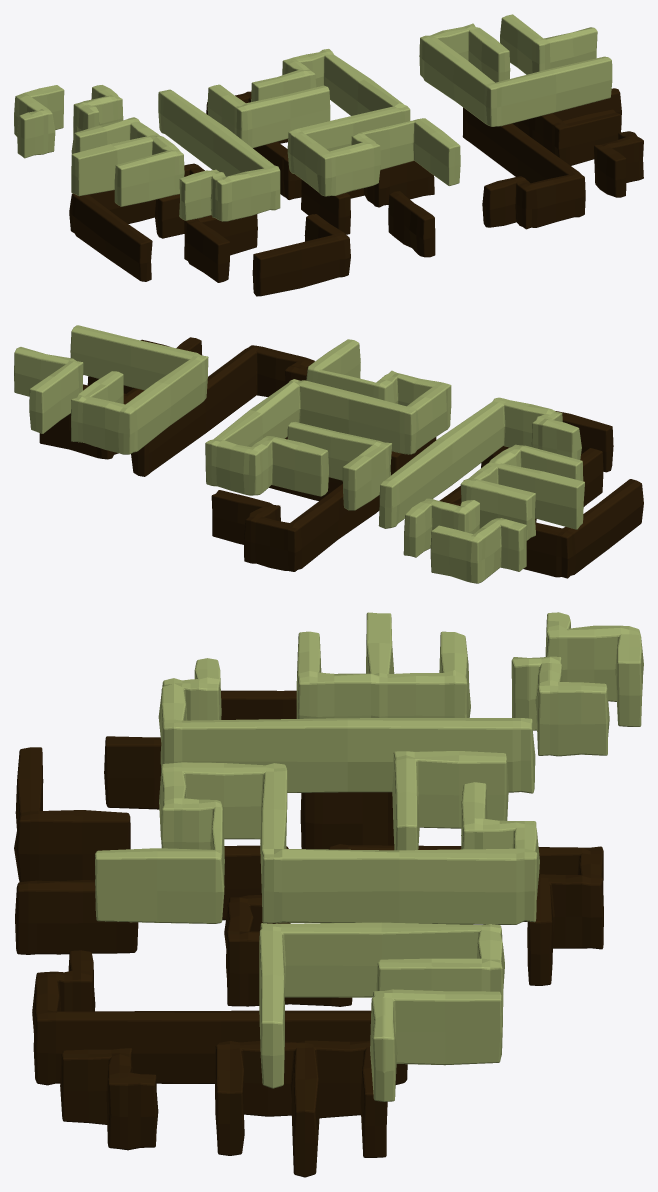
The model's file is Maze Walls.fbx.
3 views of the same model, one above another, from view 1: azimuth 30°, elevation 25°; view 2: azimuth 150°, elevation 25°; view 3: azimuth 270°, elevation 25° (orthographic). The views are drawn at different scales.
Parts seen in each view (by area): view 1: Maze walls together; view 2: Maze walls together; view 3: Maze walls together.
Boxes of the visible parts, left/top/right/bottom form: Maze walls together: left=14, top=14, right=643, bottom=296; Maze walls together: left=14, top=325, right=643, bottom=583; Maze walls together: left=14, top=612, right=643, bottom=1177.
Bounding box in the file's own units: 6048 × 3772 × 971.
